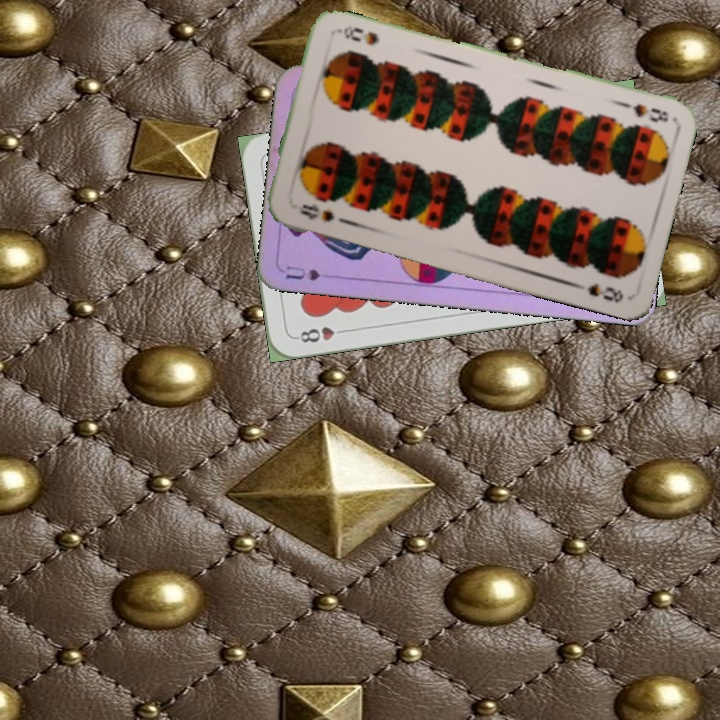H8: (291, 322, 351, 345)
S8: (615, 98, 671, 125), (296, 200, 337, 225)
SU: (282, 262, 323, 283)
